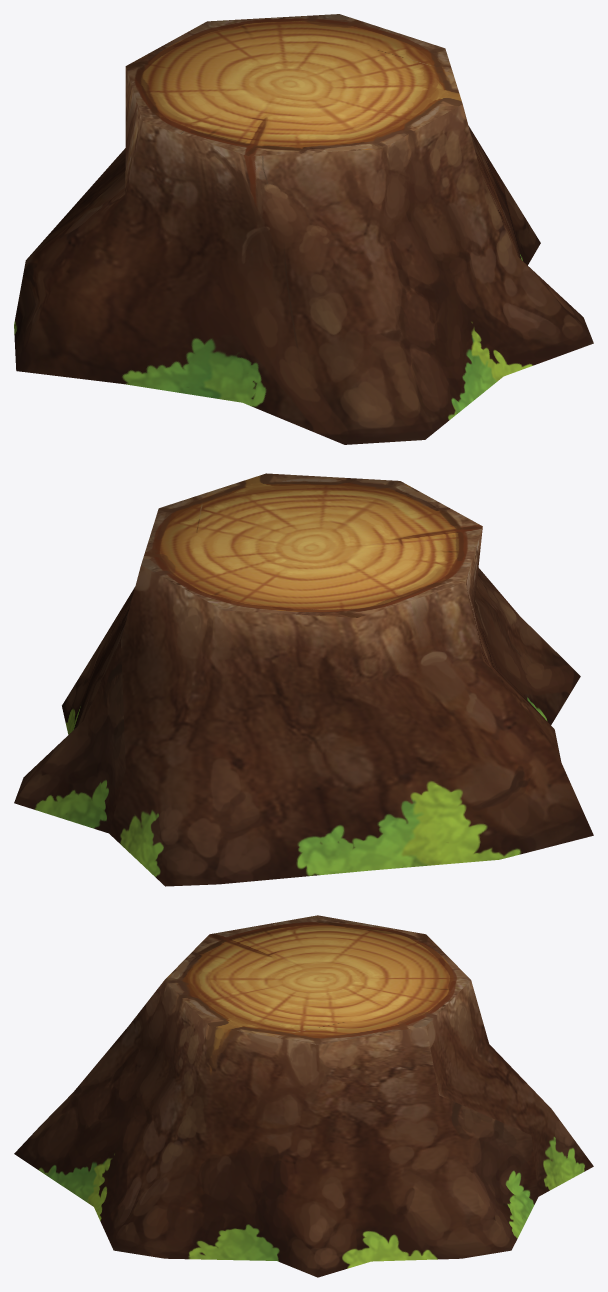
The model's file is Stump.fbx.
3 renders of one model, top to bottom at view 1: azimuth 30°, elevation 25°; view 2: azimuth 150°, elevation 25°; view 3: azimuth 270°, elevation 25°, orthographic. The views are drawn at different scales.
Parts seen in each view (by area): view 1: Stump; view 2: Stump; view 3: Stump.
Boxes of the visible parts, left/top/right/bottom form: Stump: left=14, top=14, right=593, bottom=444; Stump: left=14, top=473, right=593, bottom=886; Stump: left=14, top=915, right=593, bottom=1277.
Size of the model in its own units: 203 by 80.42 by 221.
